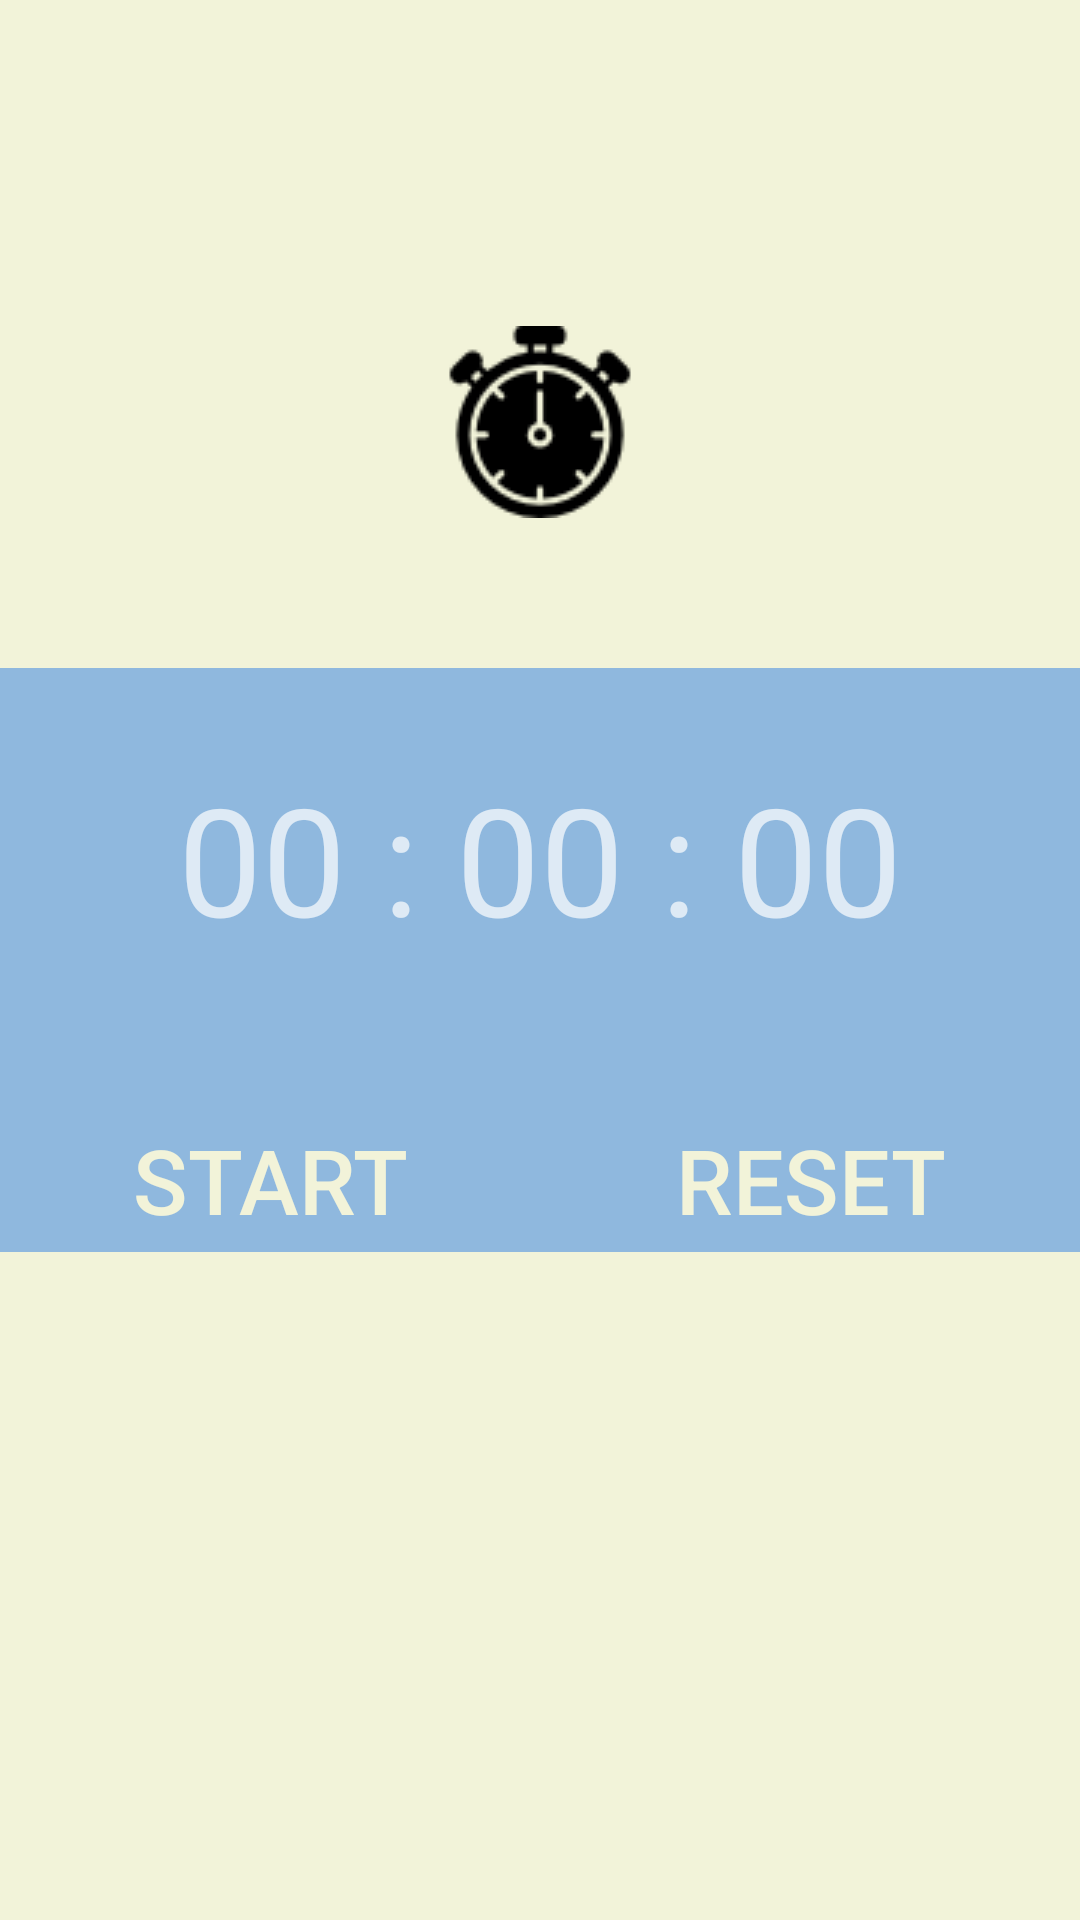

Icon bounding boxes for this 1080x1920 phone screenshot, format (x1, y1, x2, y2):
chronometer: (449, 326, 631, 518)
